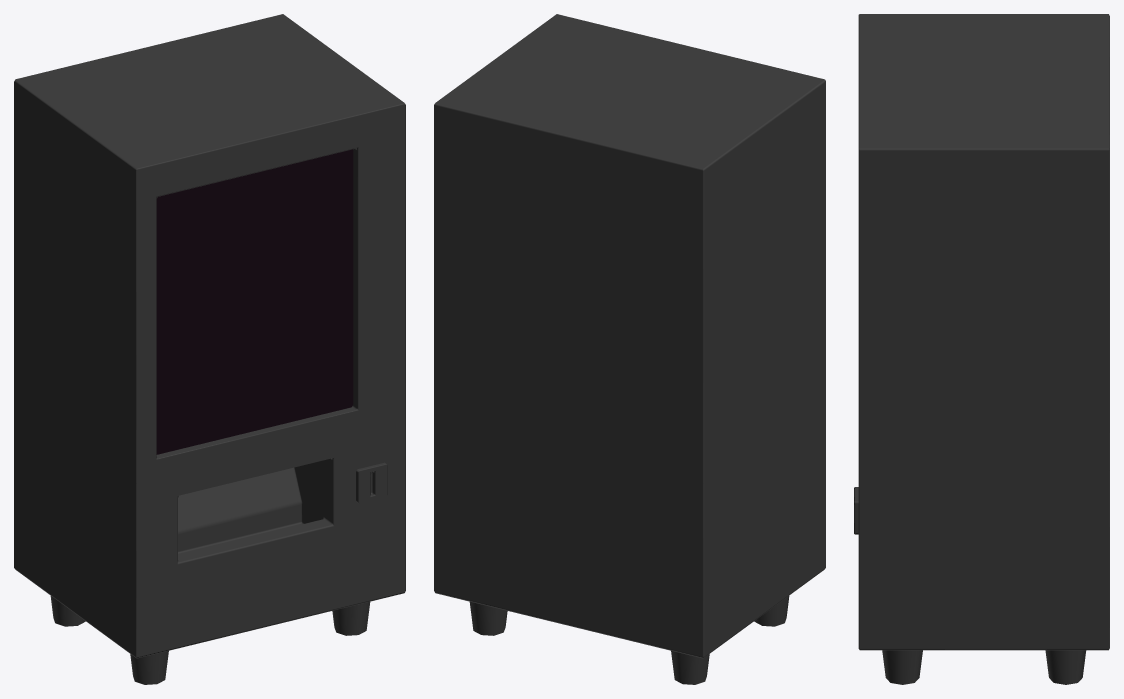
Rendered from VendingMachine.fbx.
The picture shows the model from 3 angles, left to right: view 1: azimuth 30°, elevation 25°; view 2: azimuth 150°, elevation 25°; view 3: azimuth 270°, elevation 25°; orthographic projection. The views are drawn at different scales.
Visible parts, largest first — view 1: VendingMachine, VendingMachineFeet; view 2: VendingMachine, VendingMachineFeet; view 3: VendingMachine, VendingMachineFeet.
Part boxes in pixels (x1,y1,x2,y2): VendingMachine: (14, 14, 405, 658); VendingMachineFeet: (50, 596, 370, 684); VendingMachine: (434, 14, 825, 658); VendingMachineFeet: (469, 596, 789, 684); VendingMachine: (854, 14, 1109, 650); VendingMachineFeet: (882, 650, 1086, 684).
Size of the model in its own units: 128 by 241 by 102.
